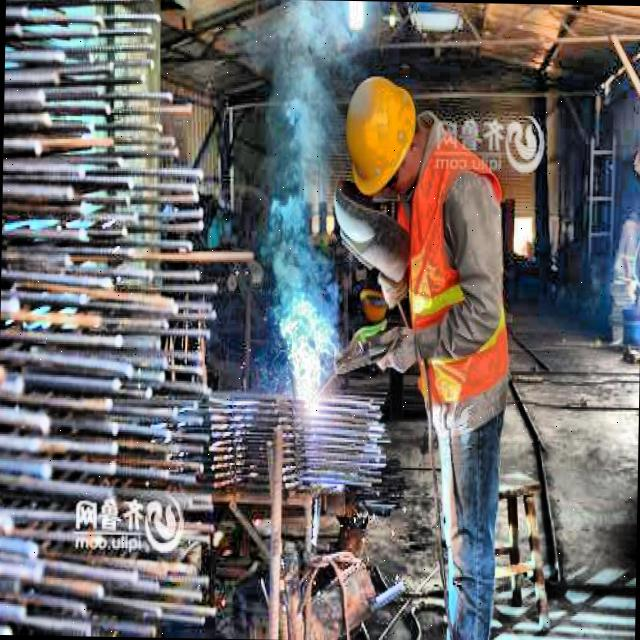helmet: (335, 66, 424, 210)
